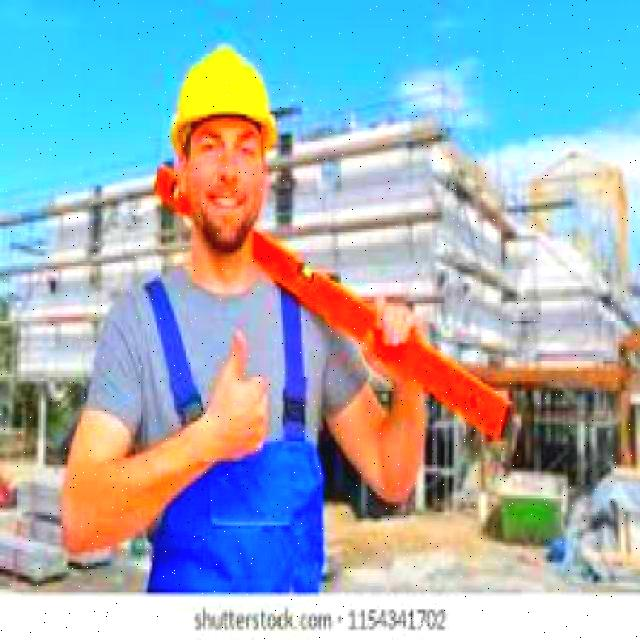Helmet: (170, 42, 286, 152)
